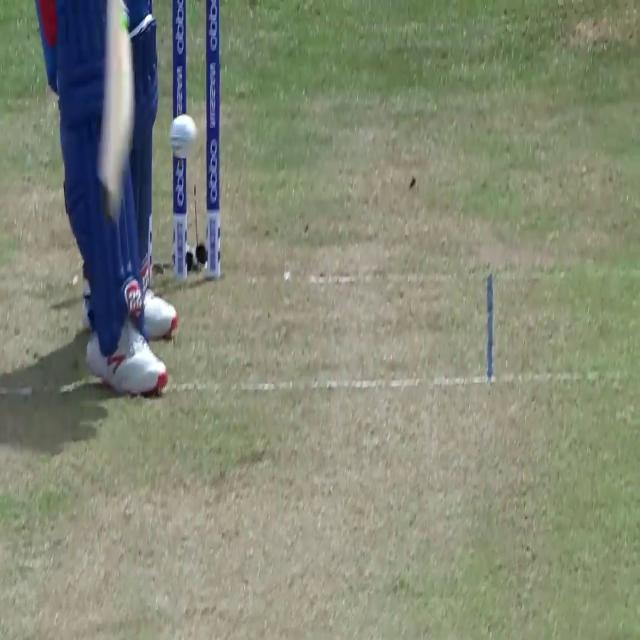ball: (168, 112, 198, 160)
